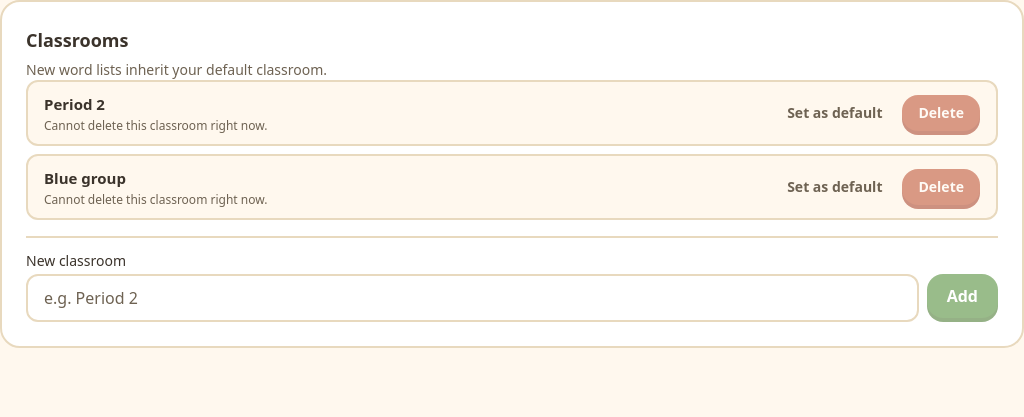
ProfileClassesSection › sets a new default
This screenshot has width=1024, height=417.
Expected: the text "Period 2" is shown, [44, 94, 105, 114]
Click the button "Set as default" in the row of "Period 2" at (835, 113), box [771, 95, 898, 131]
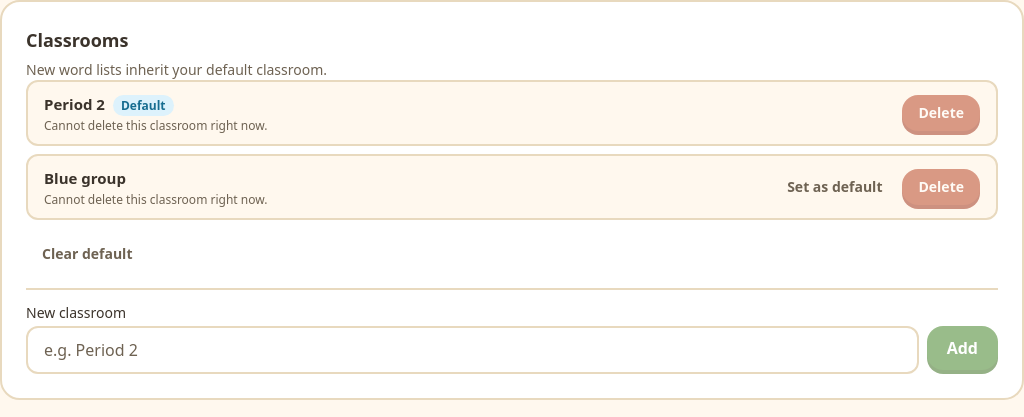
Result: the text "Default" is shown once at [113, 95, 174, 116]
